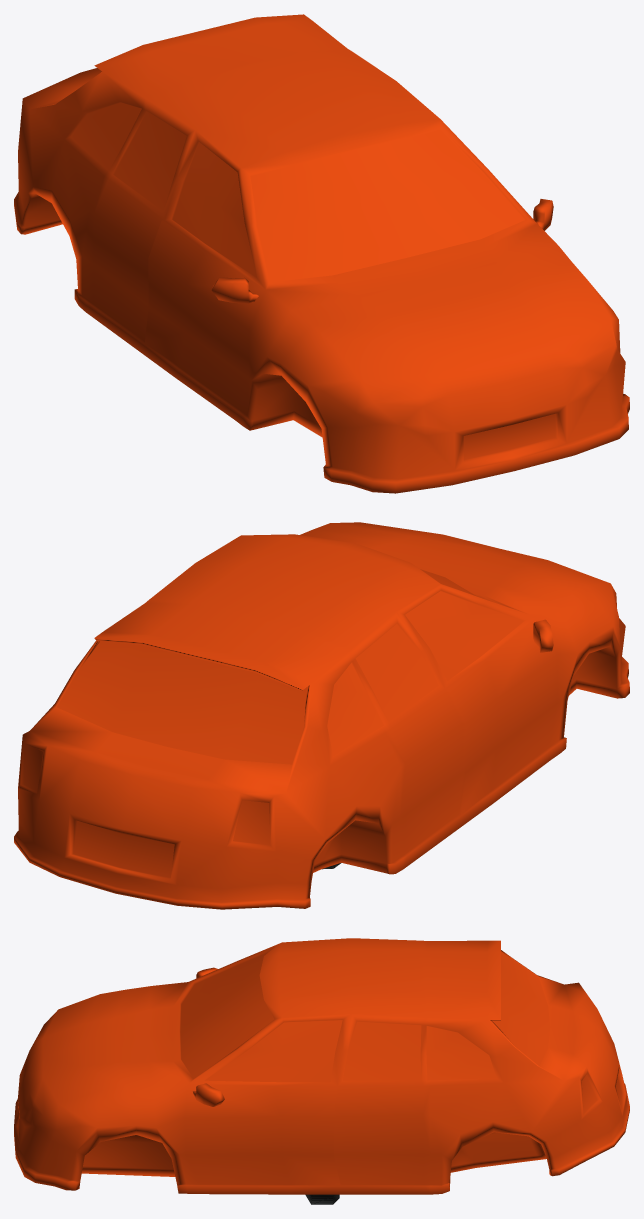
The model's file is BasicCar.fbx.
The picture shows the model from 3 angles, top to bottom: view 1: azimuth 30°, elevation 25°; view 2: azimuth 150°, elevation 25°; view 3: azimuth 270°, elevation 25°; orthographic projection. The views are drawn at different scales.
Parts seen in each view (by area): view 1: NormalCar2; view 2: NormalCar2; view 3: NormalCar2.
Boxes of the visible parts, bbox=[...] form: NormalCar2: bbox=[14, 14, 629, 493]; NormalCar2: bbox=[14, 522, 629, 909]; NormalCar2: bbox=[14, 938, 629, 1194].
Bounding box in the file's own units: 2.34 × 1.95 × 4.72.
